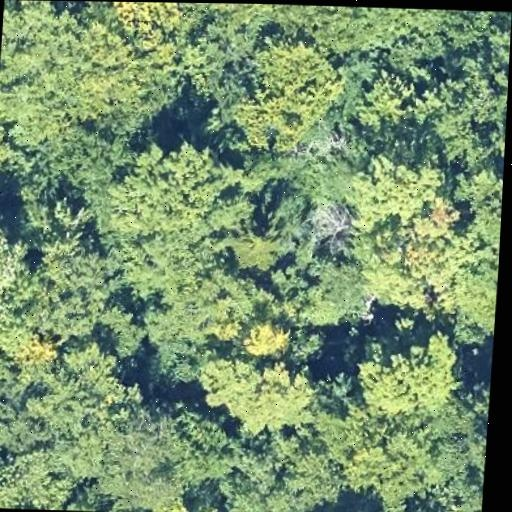tree-top: (0, 0, 186, 136), (95, 133, 248, 259), (337, 419, 480, 512), (236, 38, 346, 148), (10, 233, 116, 347), (32, 342, 140, 443), (353, 328, 464, 424), (146, 264, 258, 354), (199, 353, 313, 438), (428, 31, 511, 147), (356, 217, 454, 314), (221, 435, 337, 512), (105, 412, 185, 512), (348, 145, 443, 229), (269, 253, 361, 333), (259, 4, 422, 48), (249, 187, 344, 261), (438, 240, 500, 342), (34, 130, 124, 197), (349, 59, 428, 133), (0, 437, 62, 510), (0, 219, 36, 338), (225, 218, 290, 273), (0, 349, 37, 445), (451, 156, 504, 217), (241, 316, 296, 360), (0, 110, 18, 194), (386, 499, 479, 512)
